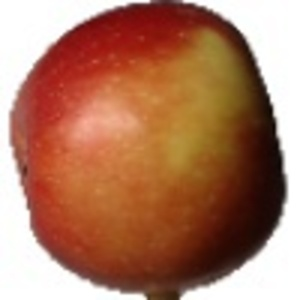maçã braeburn: (10, 1, 289, 292)
